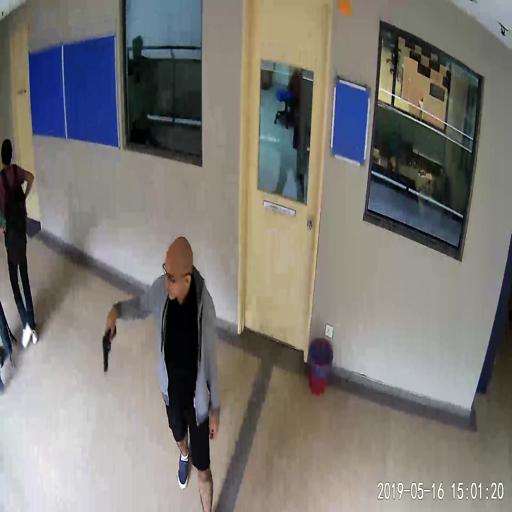pistol: (102, 323, 117, 372)
